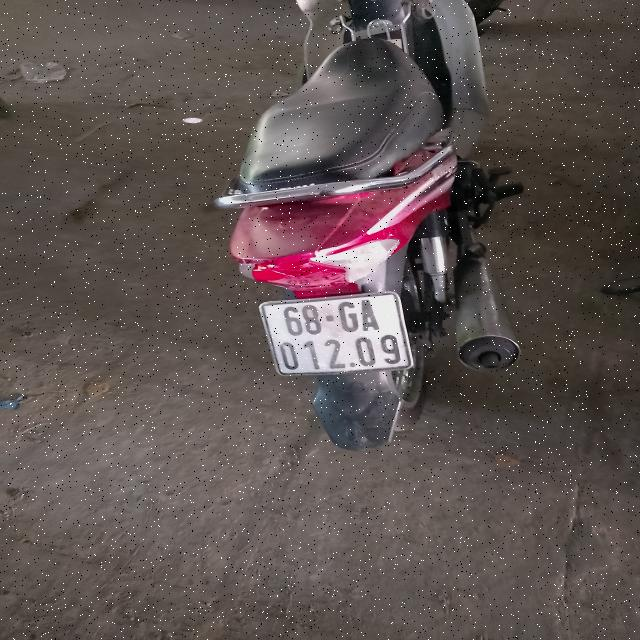0: (353, 335, 377, 365), (276, 342, 298, 369)
1: (302, 340, 324, 371)
2: (322, 338, 346, 370)
6: (282, 306, 304, 336)
8: (303, 305, 323, 335)
9: (379, 334, 405, 365)
A: (359, 298, 379, 332)
G: (335, 300, 359, 334)
